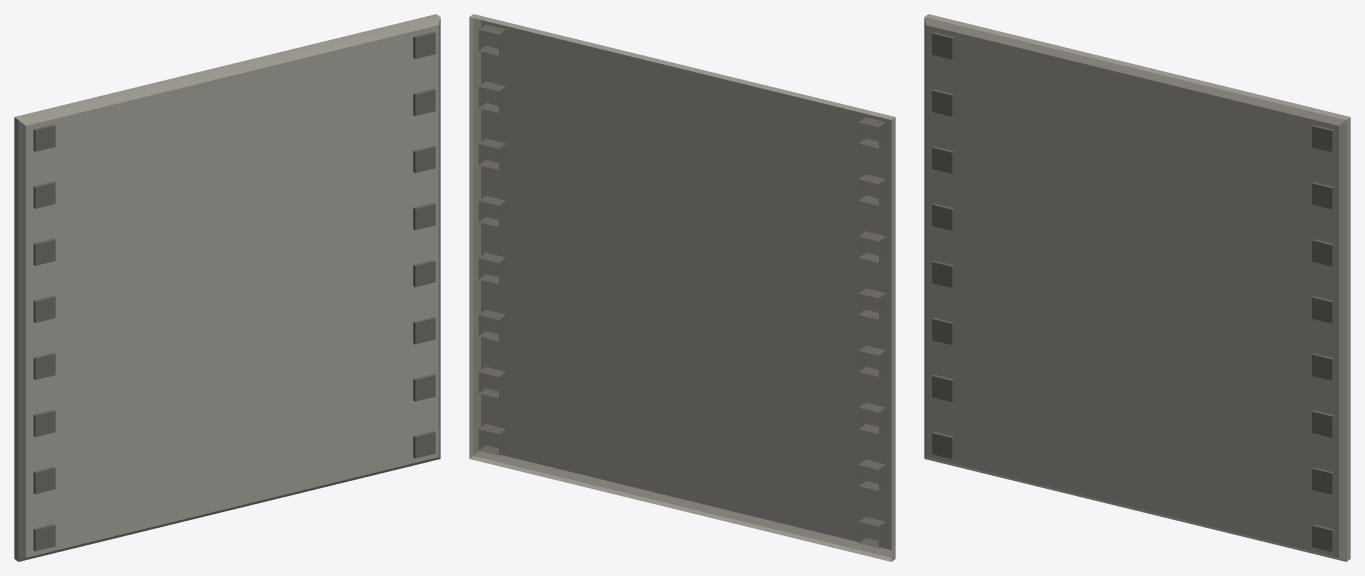
Rendered from Wall_1.FBX.
The picture shows the model from 3 angles, left to right: view 1: azimuth 30°, elevation 25°; view 2: azimuth 150°, elevation 25°; view 3: azimuth 330°, elevation 25°; orthographic projection.
Visible parts, largest first — view 1: Plane001; view 2: Plane001; view 3: Plane001.
Part boxes in pixels (x1,y1,x2,y2): Plane001: (14, 14, 440, 561); Plane001: (469, 14, 895, 561); Plane001: (924, 14, 1350, 561).
Size of the model in its own units: 300 by 300 by 11.08.
